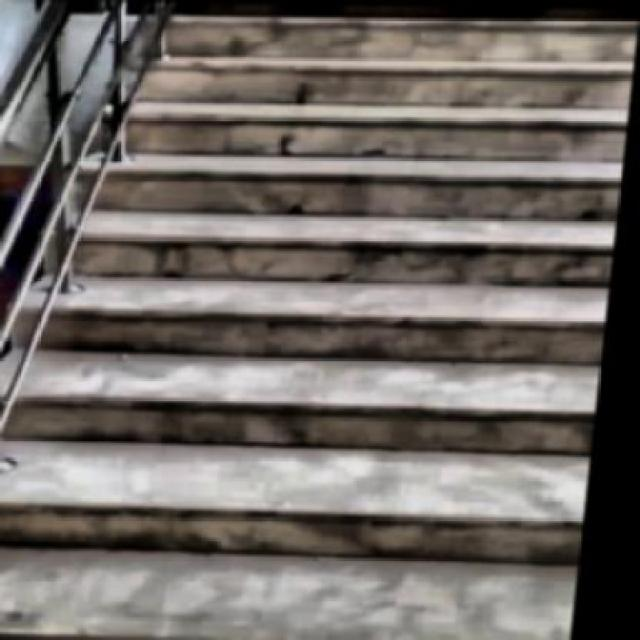stair: (9, 0, 640, 638)
